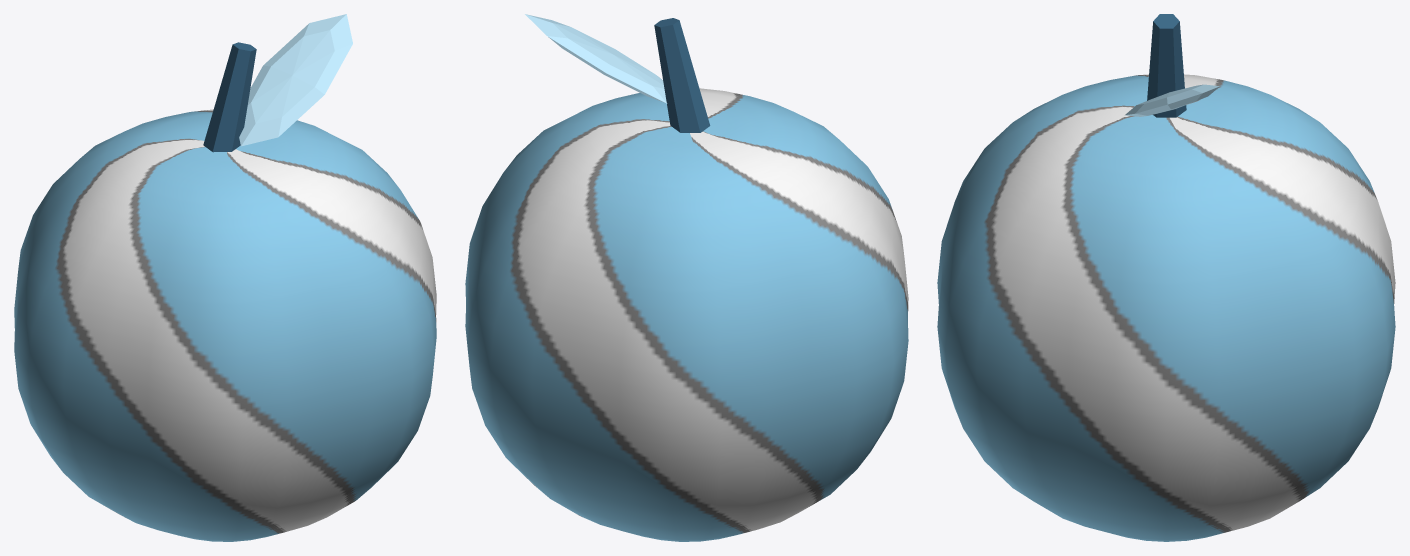
The model's file is Fruit_HieHie.fbx.
3 renders of one model, left to right at view 1: azimuth 30°, elevation 25°; view 2: azimuth 150°, elevation 25°; view 3: azimuth 270°, elevation 25°, orthographic. The views are drawn at different scales.
Visible parts, largest first — view 1: Fruit_HieHie; view 2: Fruit_HieHie; view 3: Fruit_HieHie.
Boxes of the visible parts, left/top/right/bottom form: Fruit_HieHie: left=14, top=14, right=436, bottom=541; Fruit_HieHie: left=465, top=14, right=908, bottom=541; Fruit_HieHie: left=937, top=14, right=1395, bottom=541.
Size of the model in its own units: 1.66 by 1.9 by 1.55.
1 material, 1 textured.
